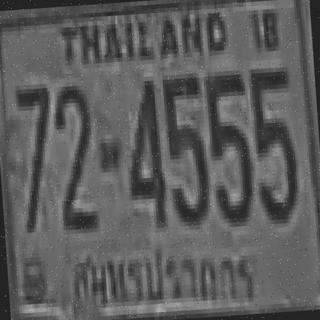N02: (52, 81, 96, 230)
N04: (121, 76, 165, 225)
N05: (248, 62, 297, 220), (202, 68, 252, 222), (160, 71, 209, 225)
N07: (13, 83, 57, 229)
P57: (66, 236, 265, 316)
